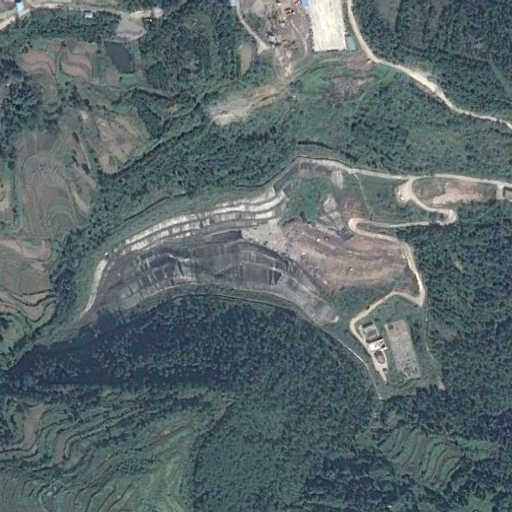lf: (77, 154, 501, 341)
